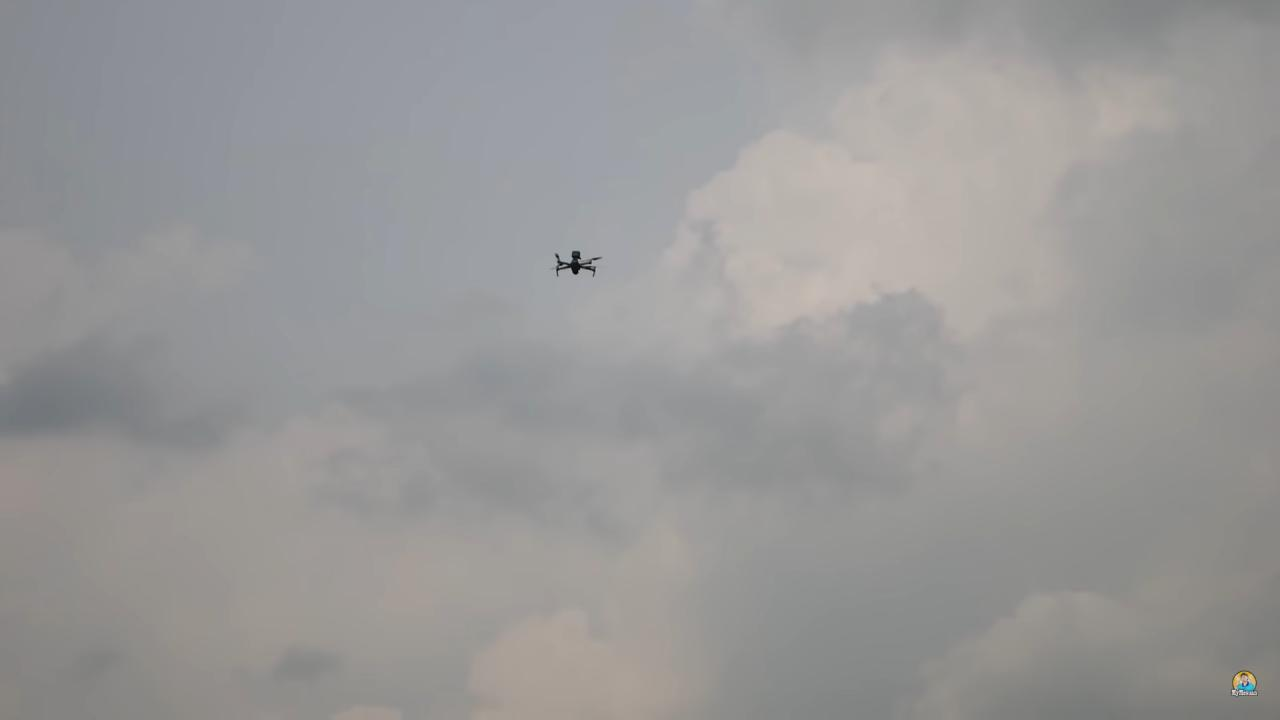Drone: (545, 238, 606, 280)
